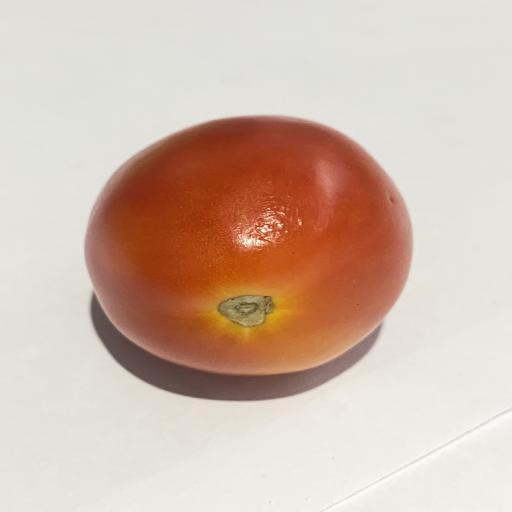overipe: (86, 116, 412, 375)
